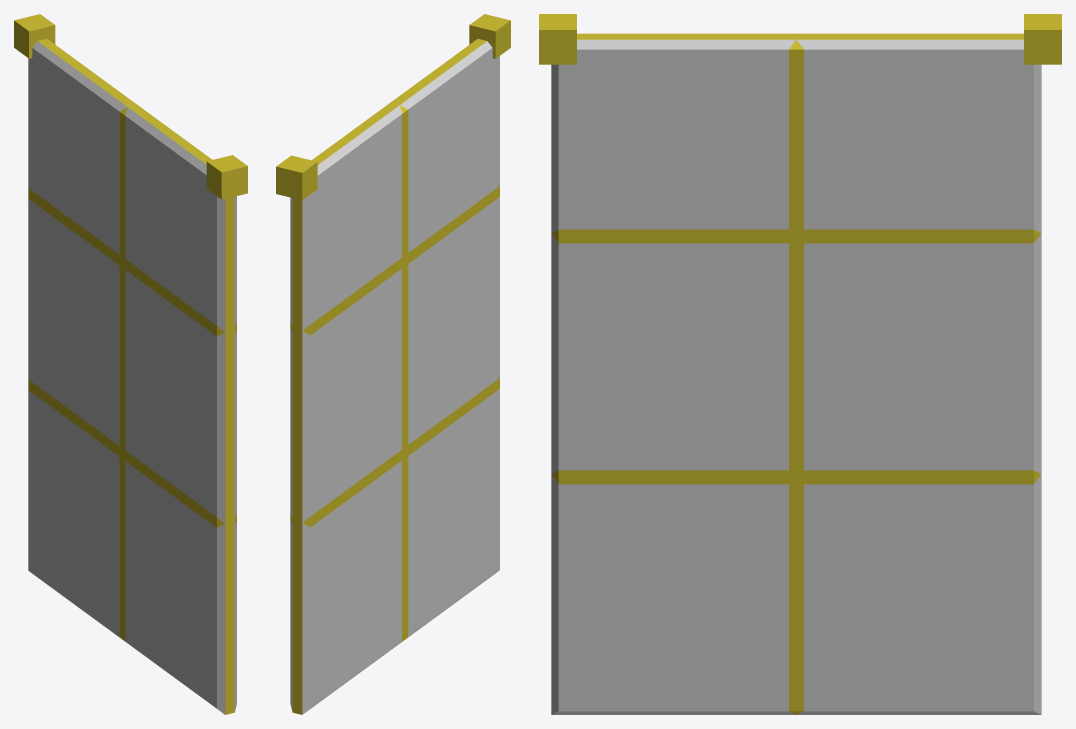
Rendered from DrawBridge01.fbx.
The picture shows the model from 3 angles, left to right: view 1: azimuth 30°, elevation 25°; view 2: azimuth 150°, elevation 25°; view 3: azimuth 270°, elevation 25°; orthographic projection. The views are drawn at different scales.
Parts seen in each view (by area): view 1: Cube; view 2: Cube; view 3: Cube.
Boxes of the visible parts, x1,y1,x2,y2 form: Cube: [14, 14, 247, 714]; Cube: [276, 14, 510, 714]; Cube: [539, 14, 1061, 714].
Bounding box in the file's own units: 0.1021 × 2.04 × 1.4.
